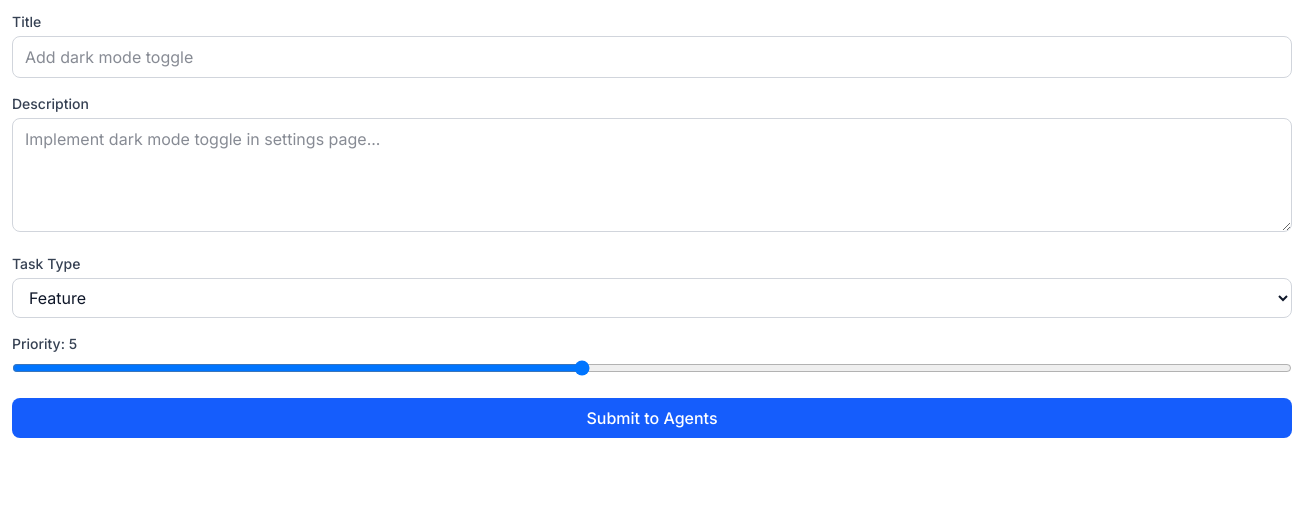
Test case: TaskSubmissionForm Component › Form Submission - Error › should display error message on failed submission
This screenshot has width=1304, height=517.
Type "Test" into the field with test id "title-input" at (652, 57), box x1=12 y1=36 x2=1292 y2=78
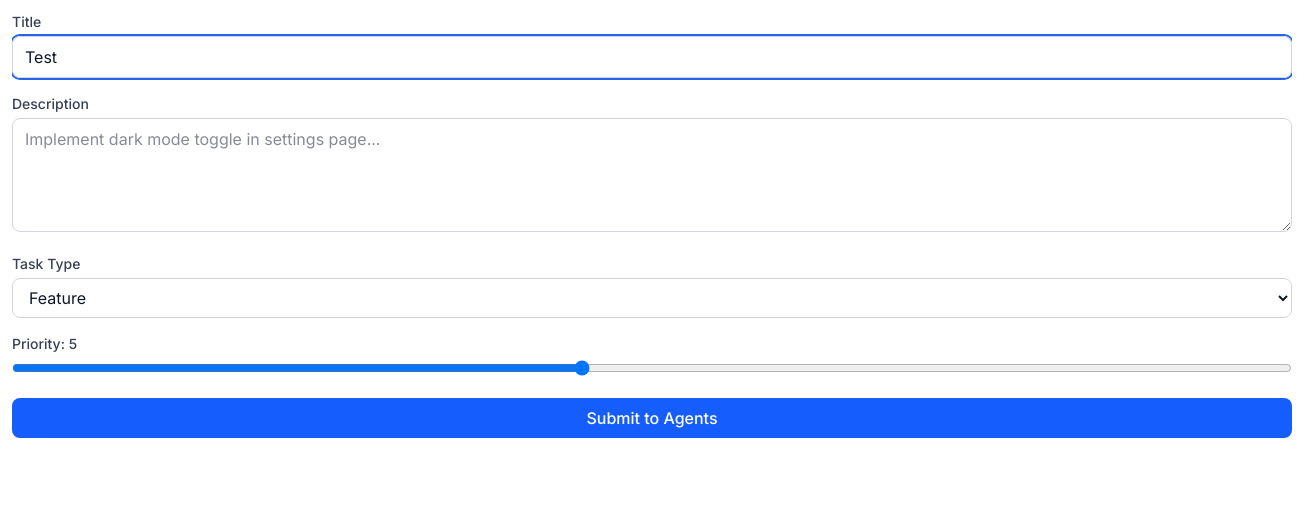
Type "Test description" into the text box with test id "description-input" at (652, 175), box x1=12 y1=118 x2=1292 y2=232
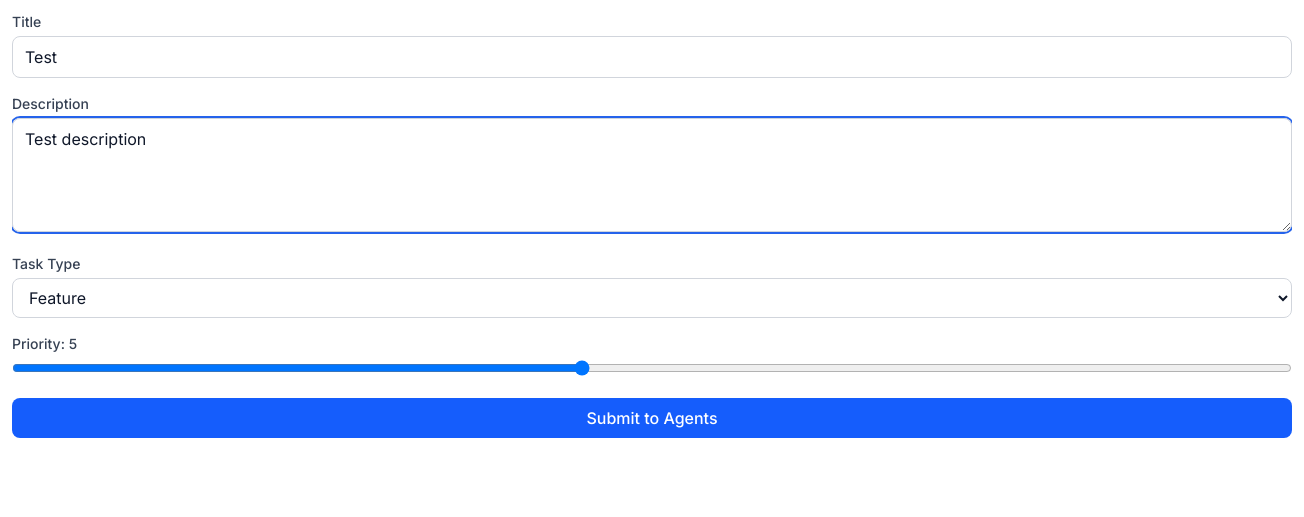
Click the button with test id "submit-button" at (652, 418), box x1=12 y1=398 x2=1292 y2=438
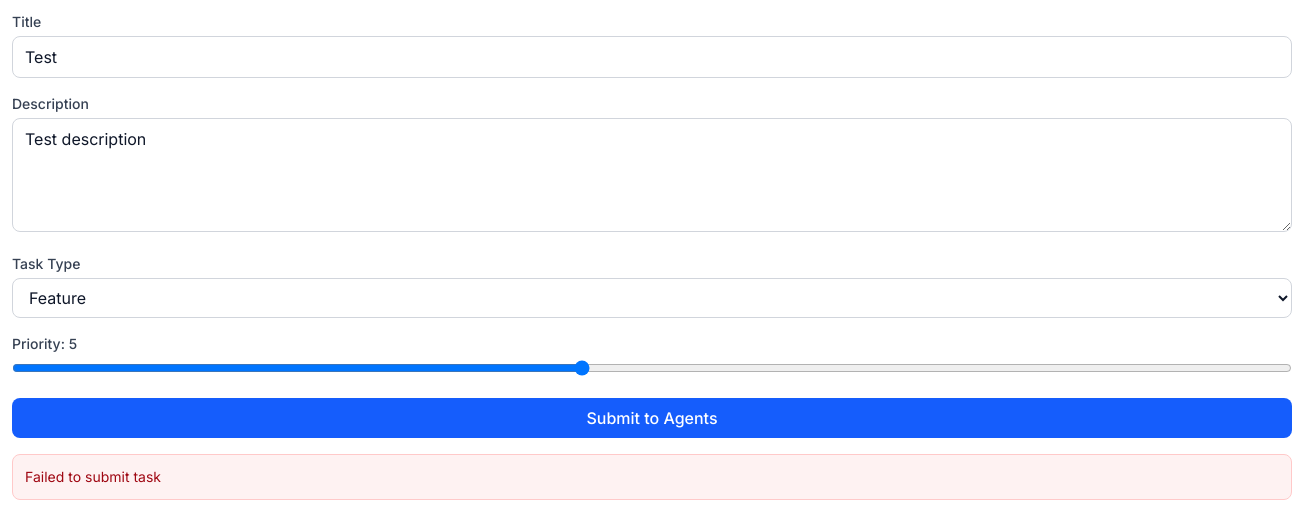
expect the text "Failed to submit task" is shown: met, box x1=12 y1=454 x2=1292 y2=500
